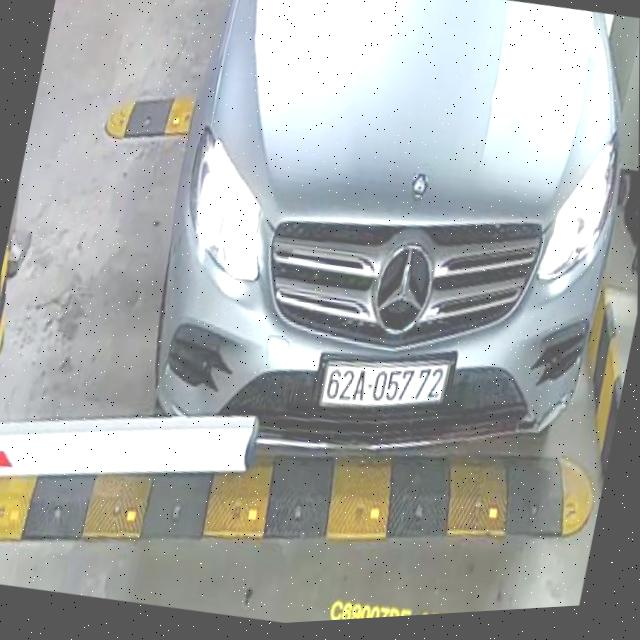car: (120, 0, 640, 528)
plate: (310, 339, 459, 428)
